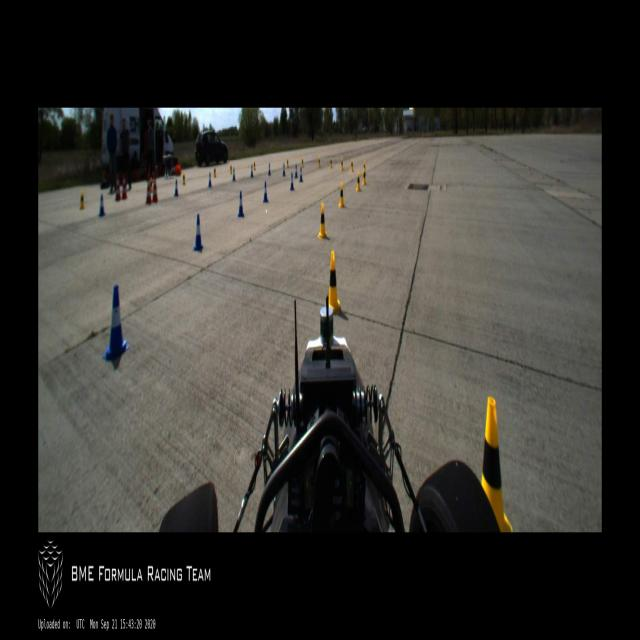blue_cone: (103, 285, 129, 363), (194, 214, 203, 251), (238, 191, 244, 217), (98, 195, 105, 216), (263, 182, 268, 202), (290, 172, 294, 191), (299, 166, 303, 182), (174, 180, 178, 196), (208, 172, 212, 187), (294, 164, 298, 178), (282, 163, 286, 175), (250, 164, 253, 177), (268, 163, 271, 175), (232, 168, 235, 180)
large_orange_cone: (146, 171, 152, 204), (121, 172, 128, 200), (152, 172, 158, 203), (115, 172, 121, 201)
yellow_cone: (480, 397, 513, 531), (328, 251, 340, 313), (318, 202, 328, 238), (339, 182, 345, 208), (79, 191, 85, 210), (356, 172, 361, 192), (362, 168, 367, 186), (362, 160, 366, 174), (340, 157, 344, 170), (213, 168, 217, 178), (350, 160, 353, 172), (182, 173, 185, 185), (150, 176, 152, 193), (286, 158, 289, 168), (301, 158, 304, 168), (253, 162, 256, 170), (330, 157, 332, 168), (318, 157, 320, 168), (230, 164, 232, 174)
